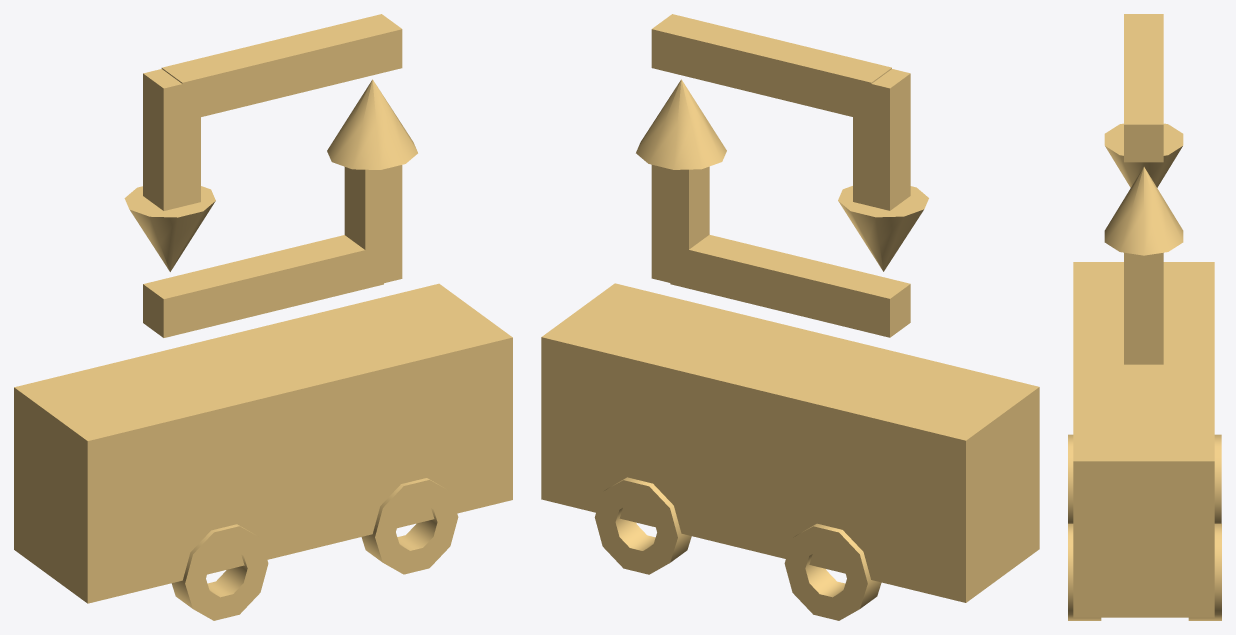
Rendered from Relief_Point.gltf.
3 views of the same model, side by side, from view 1: azimuth 30°, elevation 25°; view 2: azimuth 150°, elevation 25°; view 3: azimuth 270°, elevation 25° (orthographic). The views are drawn at different scales.
Parts seen in each view (by area): view 1: Merged_Objects_3; view 2: Merged_Objects_3; view 3: Merged_Objects_3.
Boxes of the visible parts, x1,y1,x2,y2 form: Merged_Objects_3: (14,14,512,620); Merged_Objects_3: (541,14,1039,620); Merged_Objects_3: (1068,14,1221,620).
Size of the model in its own units: 194 by 226 by 63.29.
